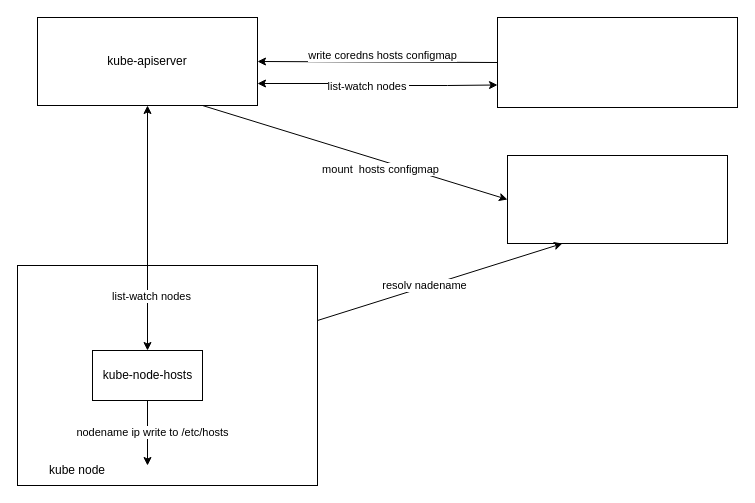
Image size: 755x503. Some labels were removed from this diagram. Each missing label, with the centre of its shape:
coredns: (617,199)
kube-node-dns: (617,62)
